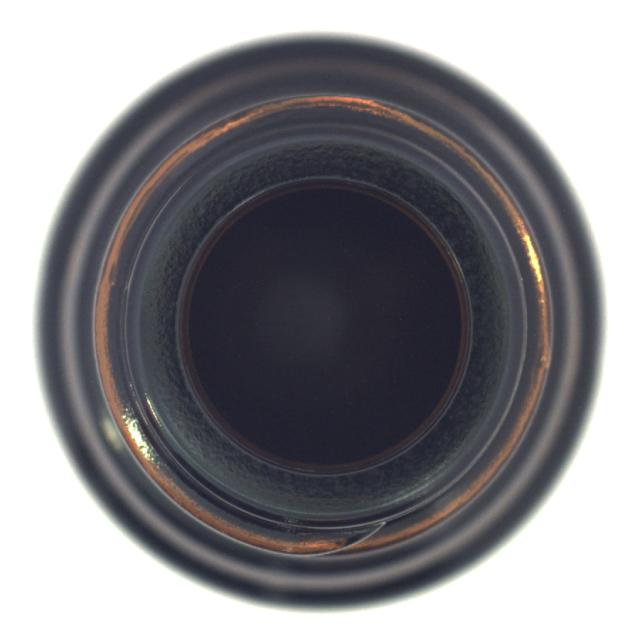bottle-good: (34, 32, 595, 608)
